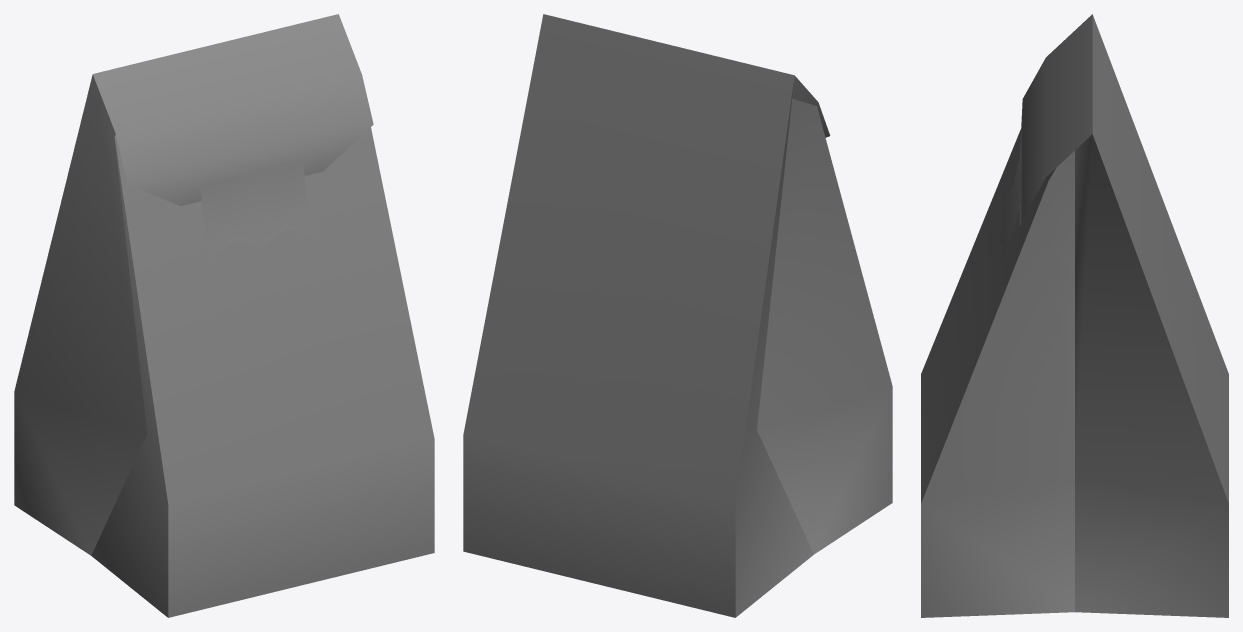
The model's file is SM_Prop_Bagged_Lunch_01.obj.
3 views of the same model, side by side, from view 1: azimuth 30°, elevation 25°; view 2: azimuth 150°, elevation 25°; view 3: azimuth 270°, elevation 25° (orthographic). The views are drawn at different scales.
Parts seen in each view (by area): view 1: SM_Prop_Bagged_Lunch_01_Mat_PolygonCity_Texture_01_A; view 2: SM_Prop_Bagged_Lunch_01_Mat_PolygonCity_Texture_01_A; view 3: SM_Prop_Bagged_Lunch_01_Mat_PolygonCity_Texture_01_A.
Boxes of the visible parts, box(x1,y1,x2,y2) form: SM_Prop_Bagged_Lunch_01_Mat_PolygonCity_Texture_01_A: box(14, 14, 434, 617); SM_Prop_Bagged_Lunch_01_Mat_PolygonCity_Texture_01_A: box(463, 14, 892, 617); SM_Prop_Bagged_Lunch_01_Mat_PolygonCity_Texture_01_A: box(921, 14, 1228, 617).
Size of the model in its own units: 0.3312 by 0.5687 by 0.3312.
Materials: 1 (1 with a texture image).
